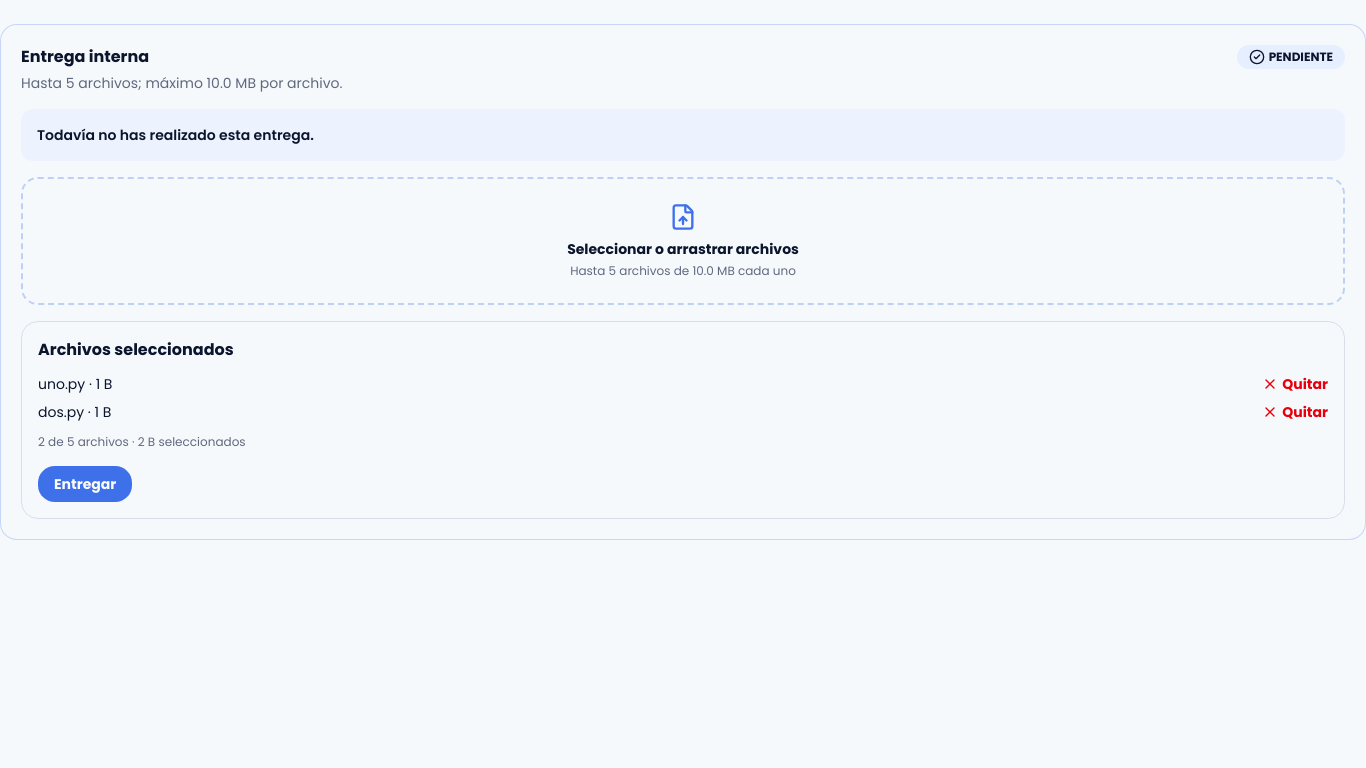
Test: SubmissionUploader › lists multiple selected files and sends them in one academic submission
Earlier steps of the test are not shown.
Expected: the text "Seleccionar o arrastrar archivos" is shown, x1=567 y1=239 x2=799 y2=259
Expected: the text "uno.py · 1 B" is shown, x1=38 y1=374 x2=112 y2=394
Click the button "Entregar".
click(85, 484)  # box x1=38 y1=466 x2=132 y2=502
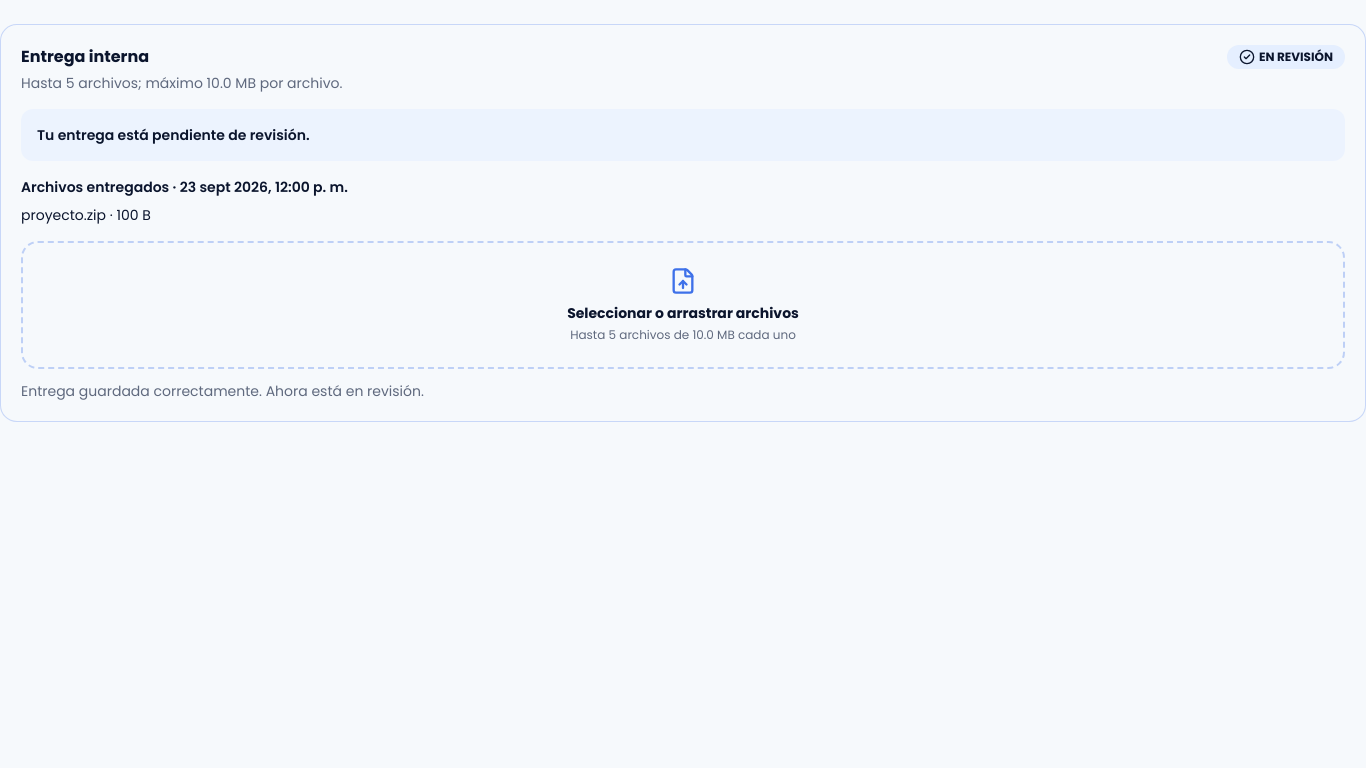
Result: the text "Entrega guardada correctamente. Ahora está en revisión." is shown at x1=21 y1=381 x2=424 y2=401
